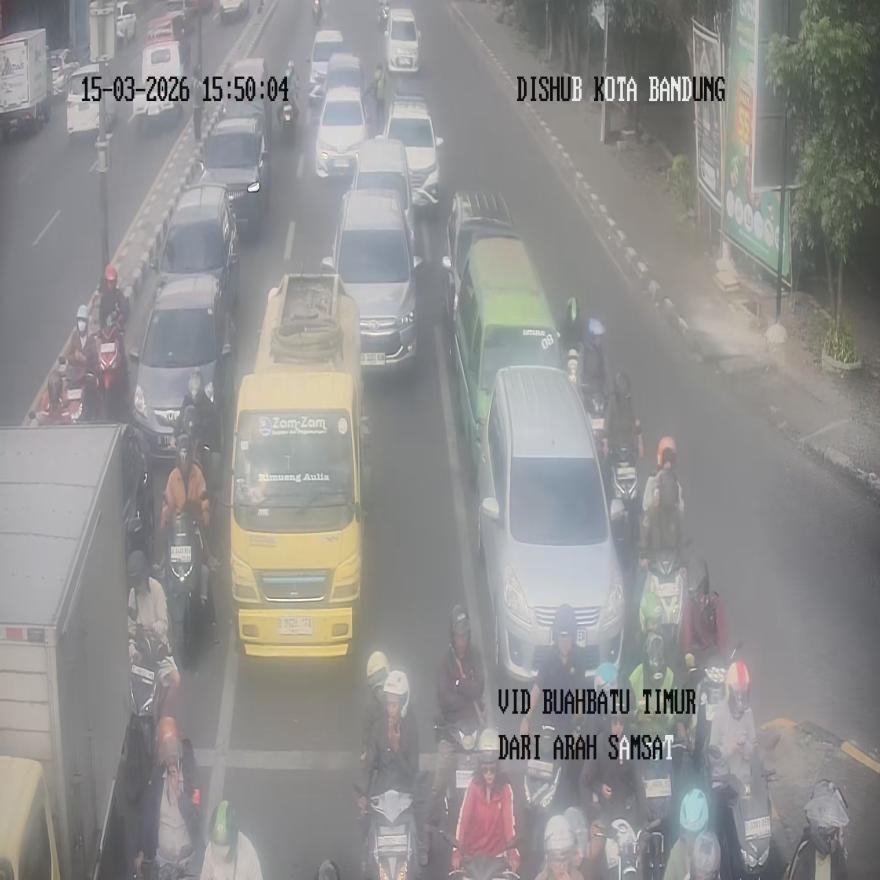Mobil: (478, 365, 626, 688), (450, 236, 565, 481), (128, 274, 233, 464), (322, 189, 423, 368)
Motor: (126, 625, 178, 804), (138, 732, 201, 879), (710, 742, 776, 879), (164, 506, 216, 670), (784, 780, 850, 880), (362, 788, 417, 880), (640, 548, 684, 658), (600, 817, 666, 879), (606, 443, 638, 563), (93, 318, 129, 420), (524, 723, 563, 816), (447, 832, 520, 880), (61, 362, 97, 423), (282, 62, 296, 138), (378, 1, 390, 34), (313, 0, 322, 24)
Truk ringan: (226, 272, 370, 657)
